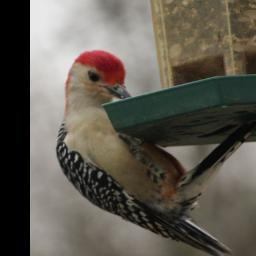Woodpecker: (57, 49, 237, 256)
